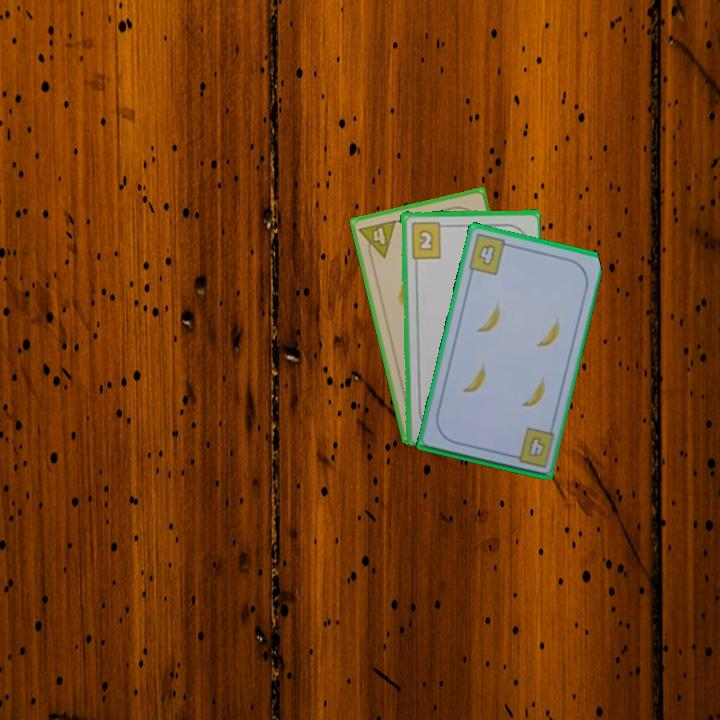2b: (407, 218, 449, 261)
4b: (465, 230, 515, 278), (507, 424, 557, 470)
4p: (355, 216, 399, 263)
